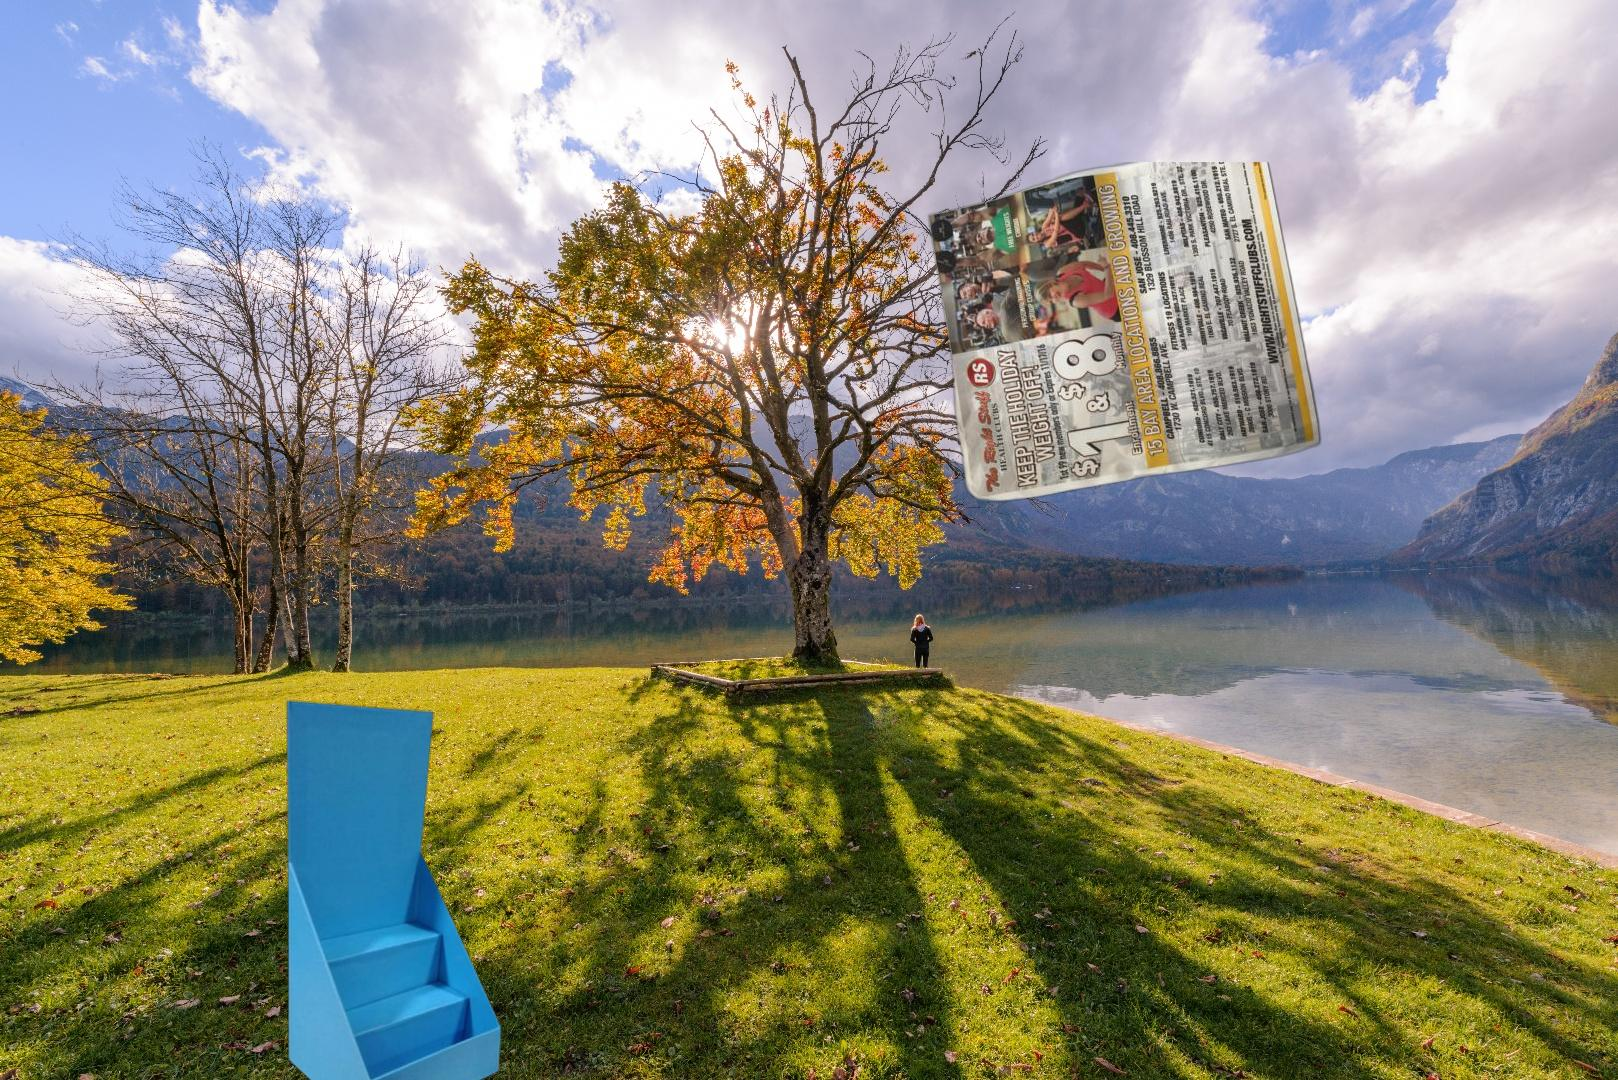paper: (924, 162, 1326, 505)
trashbox-cardboard: (282, 697, 506, 1080)
